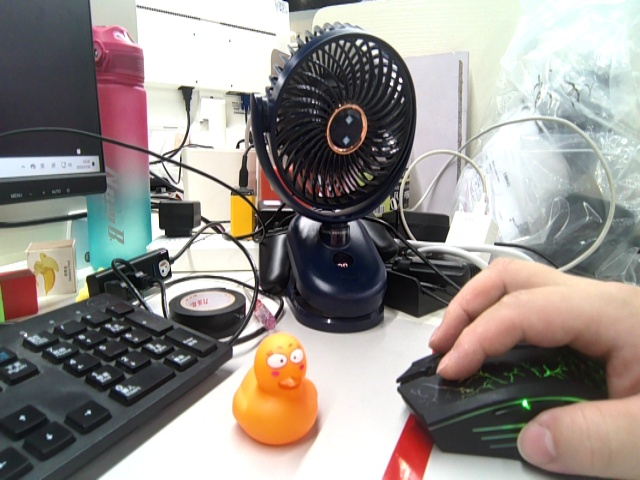duck: (225, 326, 334, 451)
